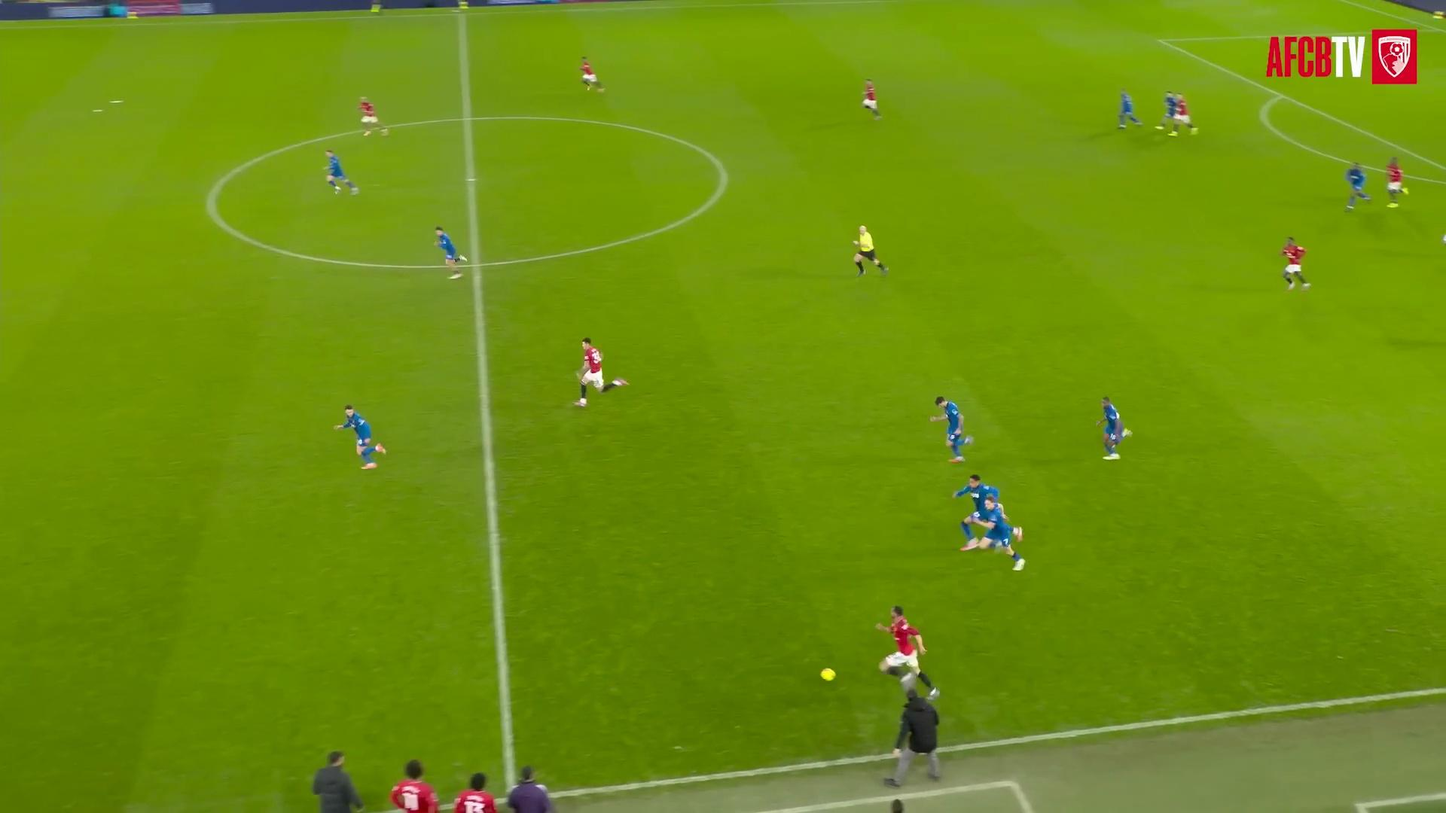football: (819, 658, 841, 693)
player: (876, 605, 939, 699), (972, 495, 1024, 570), (575, 337, 627, 406), (953, 474, 999, 550), (334, 405, 386, 469), (930, 396, 972, 462), (1096, 397, 1132, 459), (435, 226, 466, 279), (1281, 237, 1310, 289), (325, 149, 358, 194), (1345, 163, 1371, 211), (1168, 94, 1197, 135), (358, 96, 388, 135), (1387, 157, 1408, 207), (1117, 90, 1142, 128), (1155, 91, 1176, 129), (581, 56, 603, 92), (862, 81, 880, 120)
referee: (853, 226, 887, 276)
